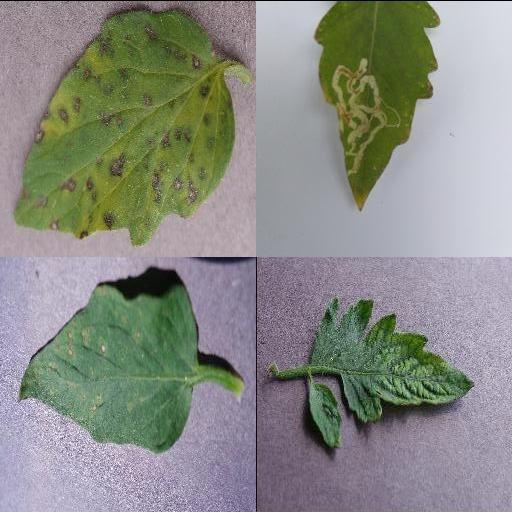Leaf Miner: (312, 0, 441, 210)
Mosaic Virus: (308, 297, 474, 421)
Septoria: (15, 7, 235, 241), (13, 282, 199, 454)
